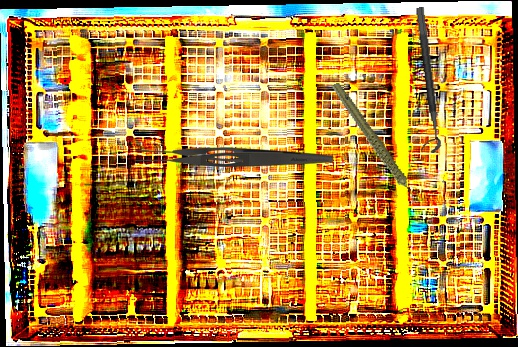Dressing Forceps: (135, 145, 333, 167)
Fixation Ring: (403, 6, 443, 155)
Handpiece: (330, 71, 418, 217)
